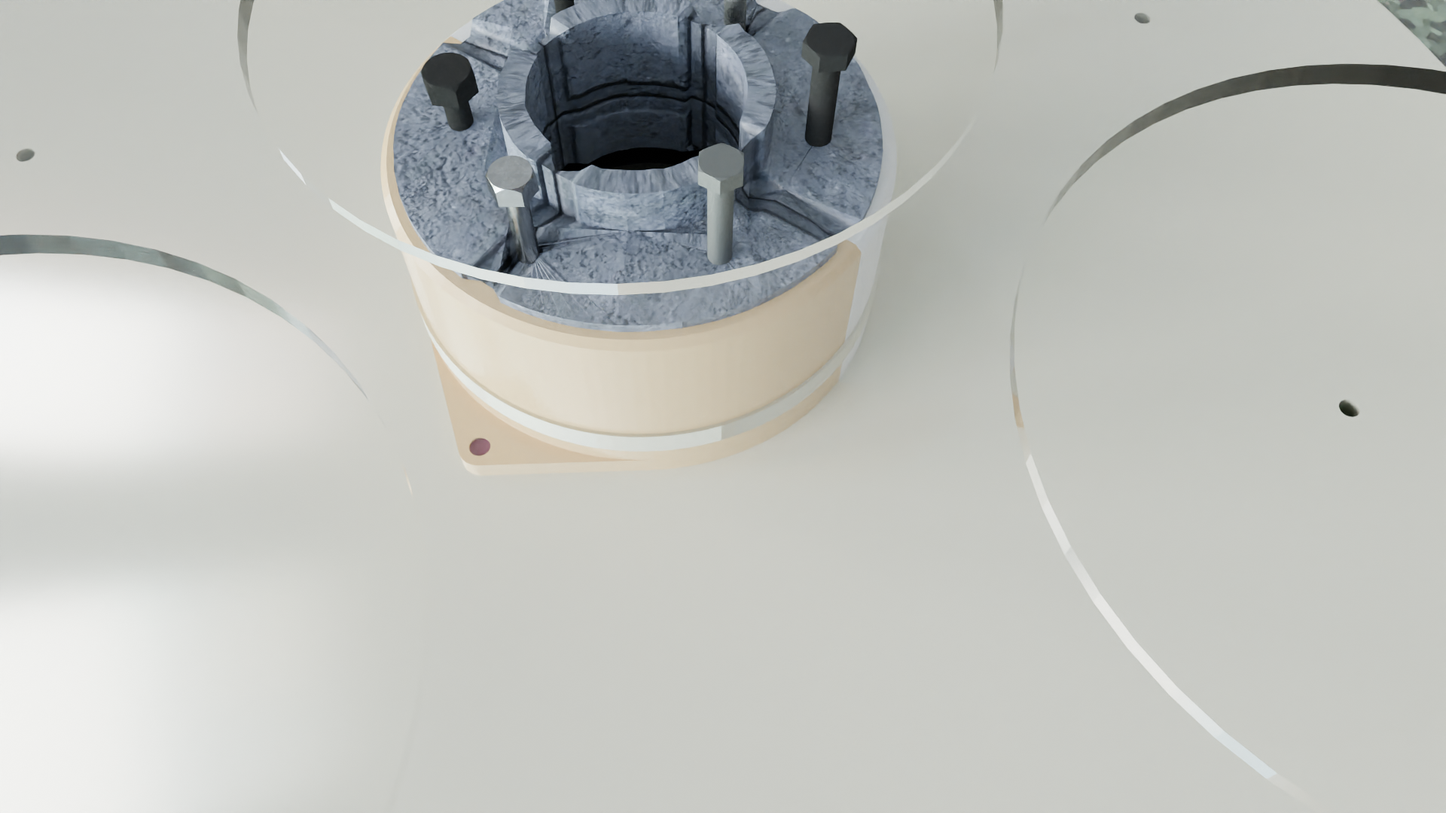bolt: (421, 53, 475, 93), (803, 23, 857, 58), (485, 156, 536, 193), (698, 143, 744, 182)
